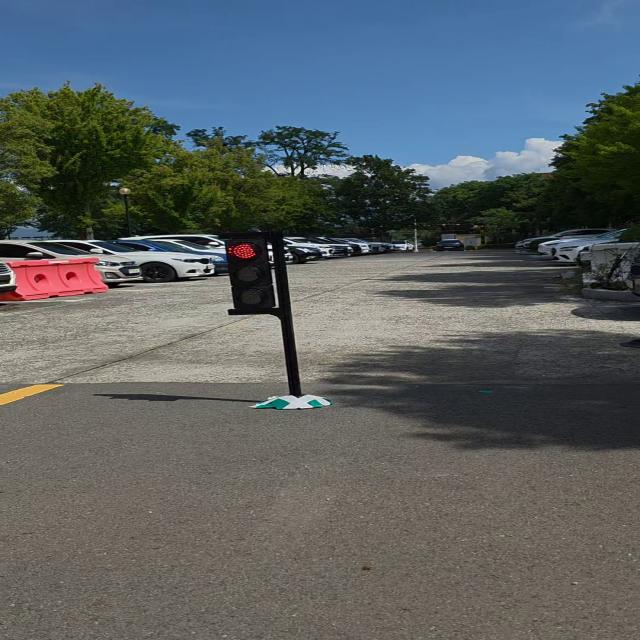red: (220, 233, 276, 316)
